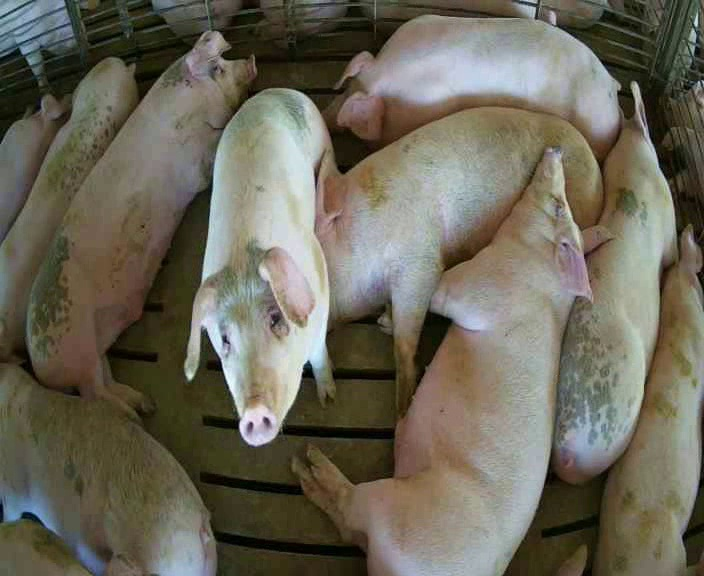pig: (27, 32, 255, 425), (316, 108, 601, 413), (184, 89, 334, 445), (552, 82, 675, 482), (323, 15, 621, 158), (0, 58, 136, 360), (594, 228, 703, 574), (0, 94, 70, 241)
